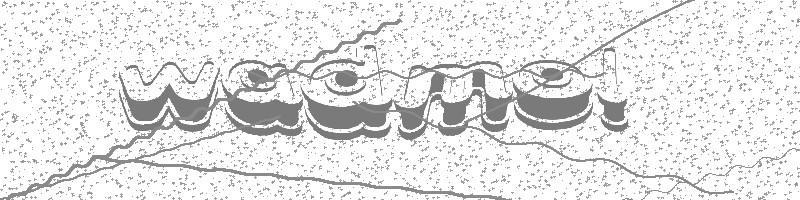a: (221, 60, 303, 134)
d: (303, 45, 391, 139)
l: (597, 48, 628, 131)
m: (395, 61, 512, 140)
o: (513, 60, 593, 130)
w: (119, 61, 219, 130)
